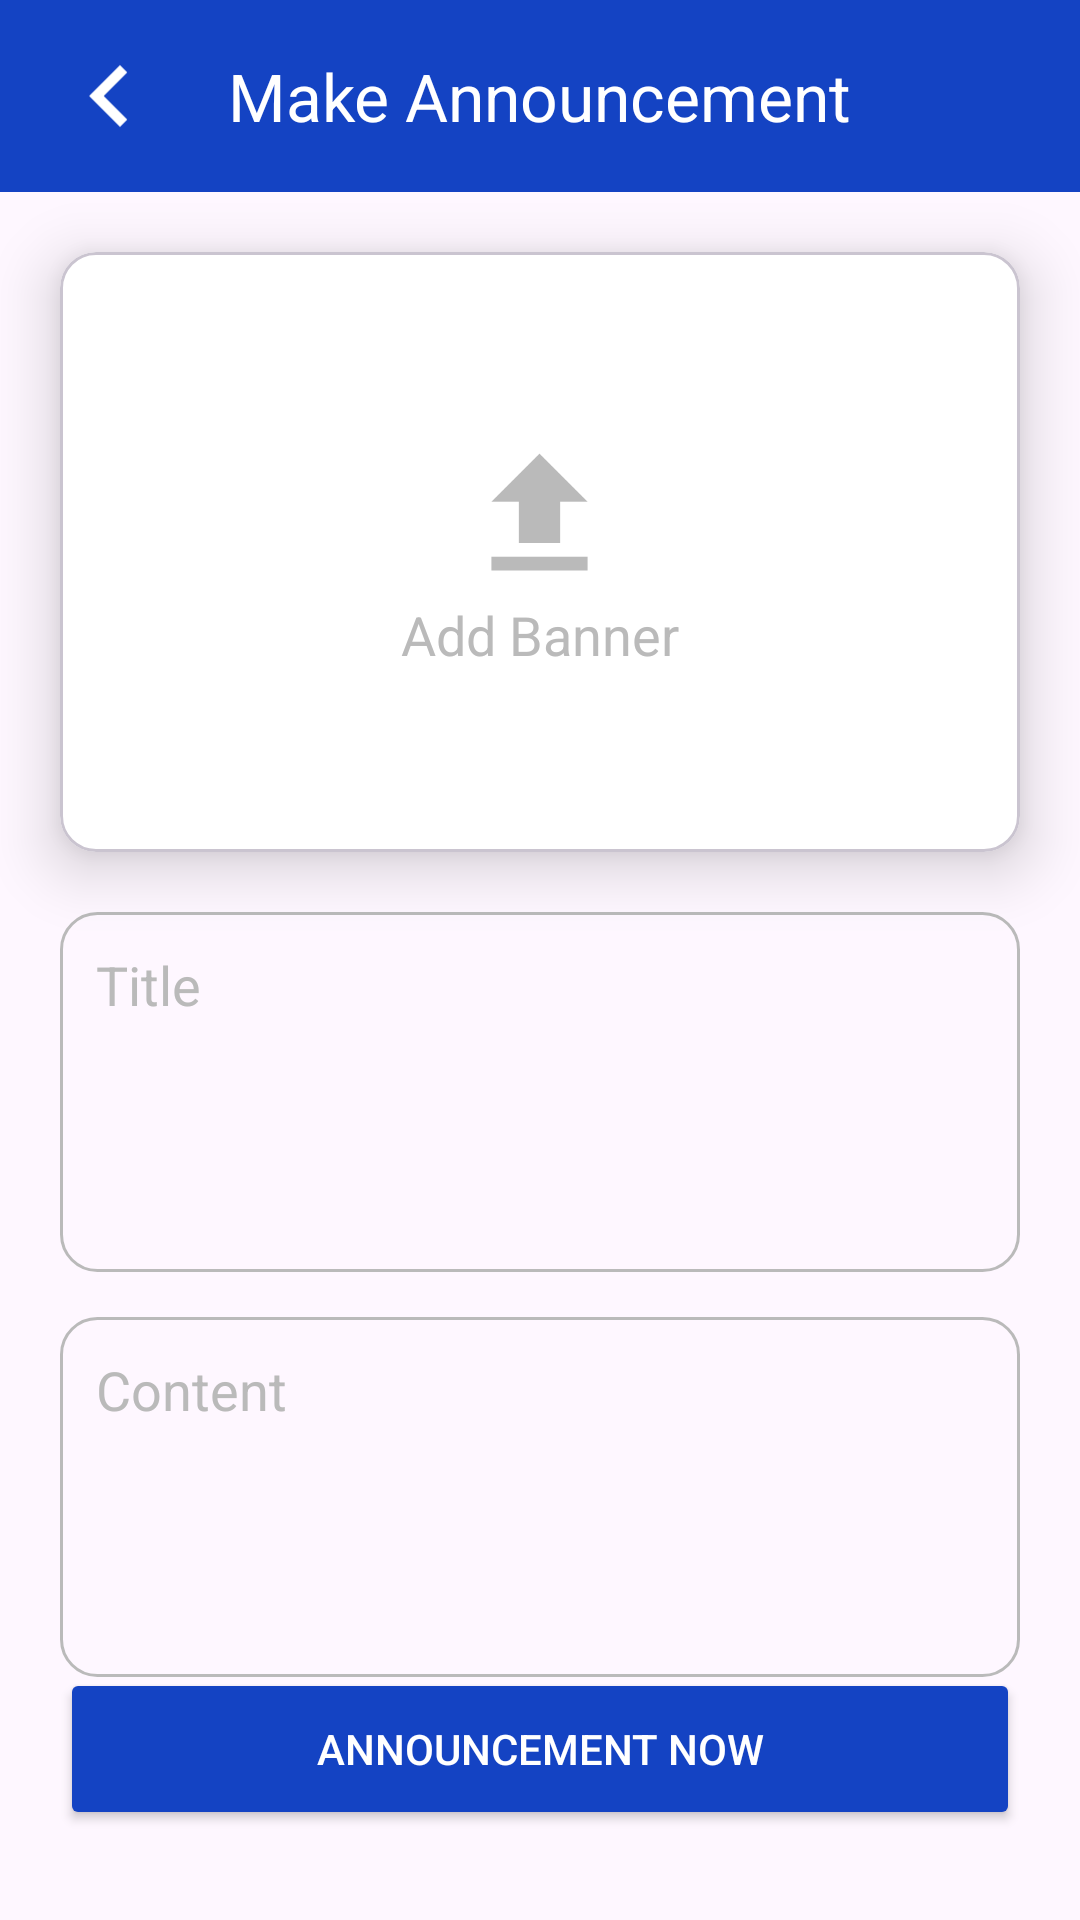

Screen size 1080 × 1920. Icon name, then its box in pixels as region(x1, y1, x2, y2):
arrow: region(89, 65, 127, 127)
upload: region(491, 454, 588, 571)
